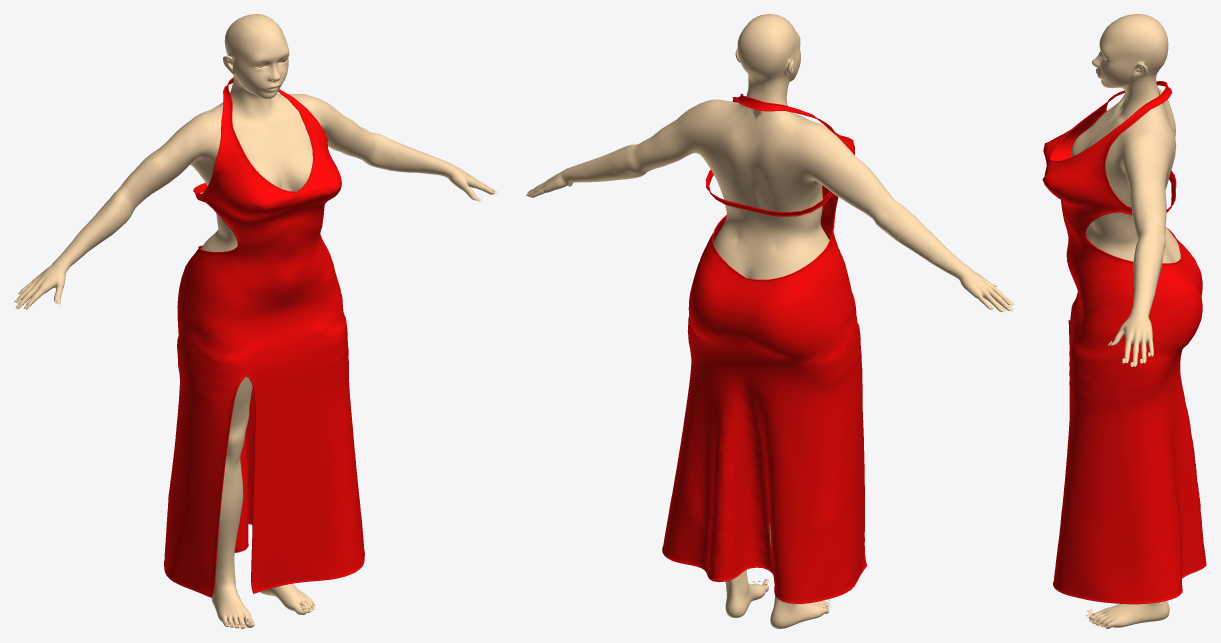
The model's file is dress3.glb.
3 views of the same model, side by side, from view 1: azimuth 30°, elevation 25°; view 2: azimuth 150°, elevation 25°; view 3: azimuth 270°, elevation 25° (orthographic).
Parts seen in each view (by area): view 1: EveningDress.001, Body.003; view 2: EveningDress.001, Body.003; view 3: EveningDress.001, Body.003.
Part boxes in pixels (left/top/right/bottom): EveningDress.001: left=164, top=77, right=364, bottom=597; Body.003: left=17, top=14, right=494, bottom=628; EveningDress.001: left=662, top=93, right=866, bottom=603; Body.003: left=527, top=14, right=1010, bottom=628; EveningDress.001: left=1042, top=81, right=1206, bottom=604; Body.003: left=1071, top=14, right=1180, bottom=628.
Size of the model in its own units: 1.58 by 1.85 by 0.4649.
